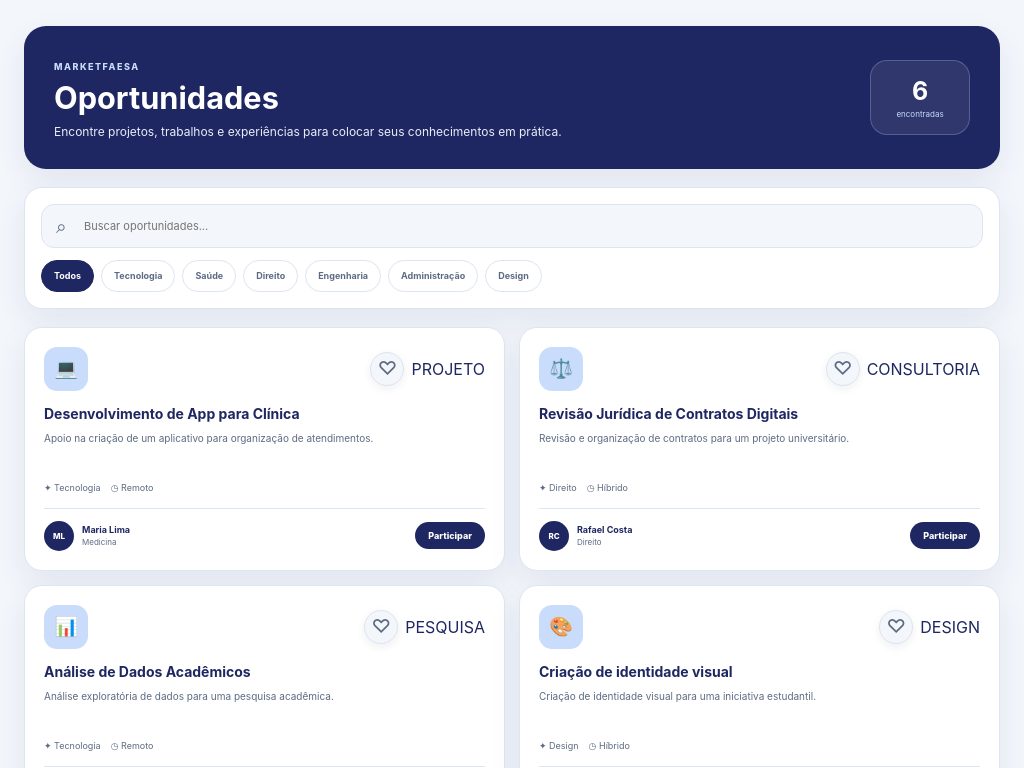
Test: persistência das ações em oportunidades › não marca oportunidade como salva se o armazenamento falhar
This screenshot has width=1024, height=768.
Step 1. Click the button named "Salvar oportunidade" → (387,369), box [370,352,404,386]
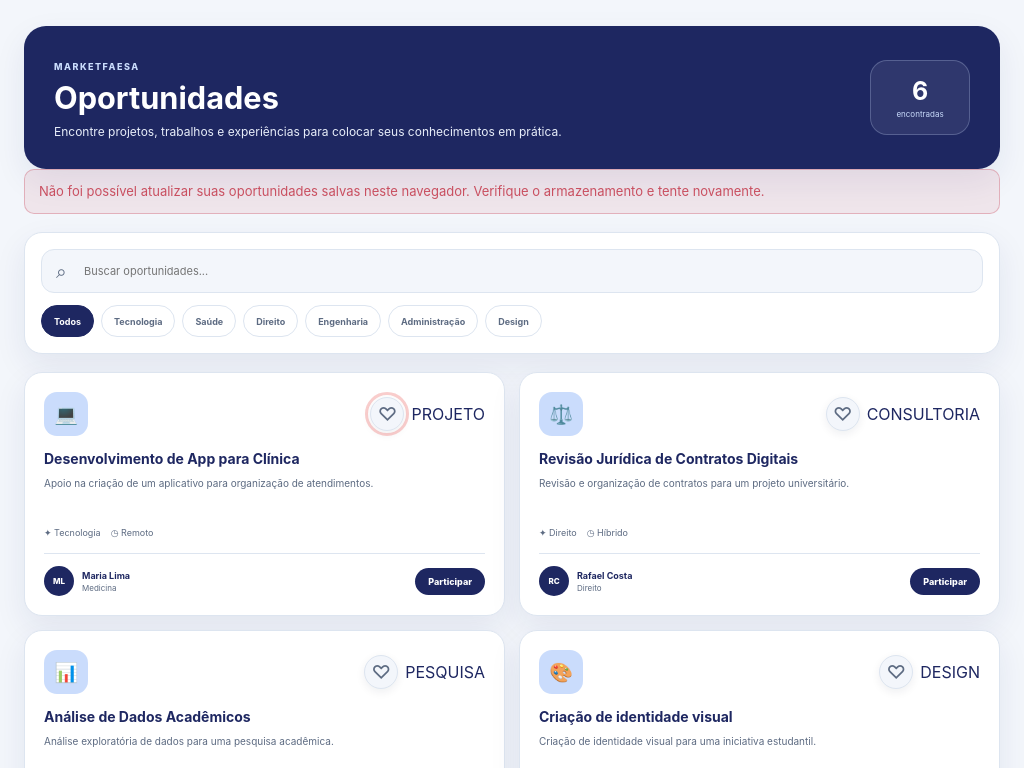
expect the button named "Salvar oportunidade" is shown: met, box [370,397,404,431]
expect the message shows "Não foi possível atualizar suas oportunidades salvas": met, box [39,183,764,199]
